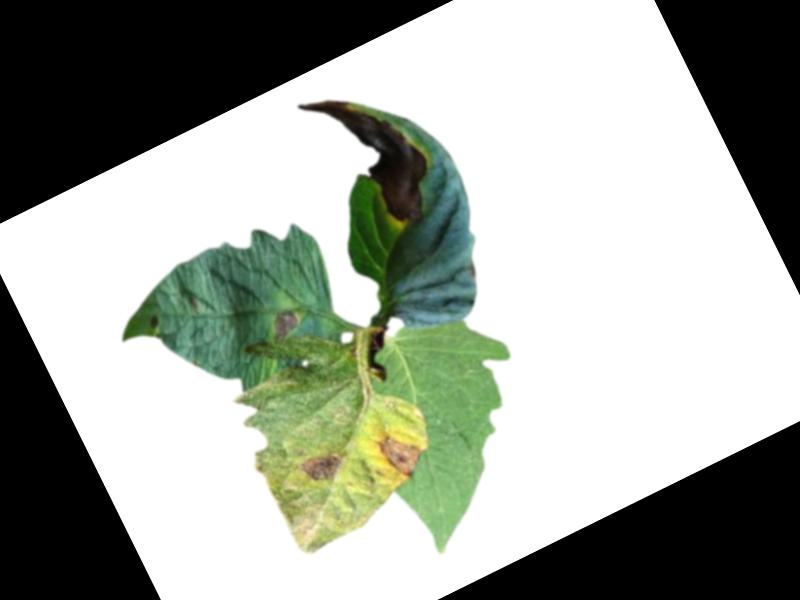Early_blight: (294, 61, 452, 251), (375, 424, 431, 483), (298, 443, 350, 491), (264, 303, 307, 344), (144, 312, 165, 332)
healthy: (331, 288, 579, 562)
